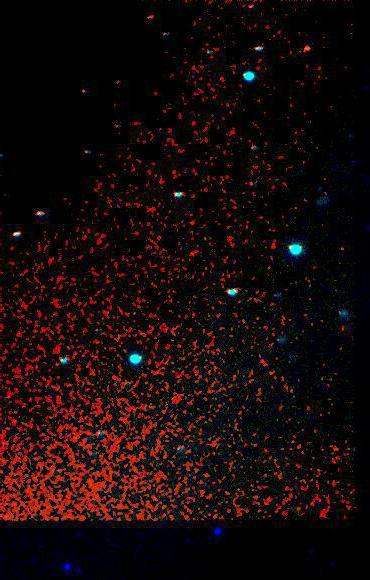star: (294, 30, 324, 60)
